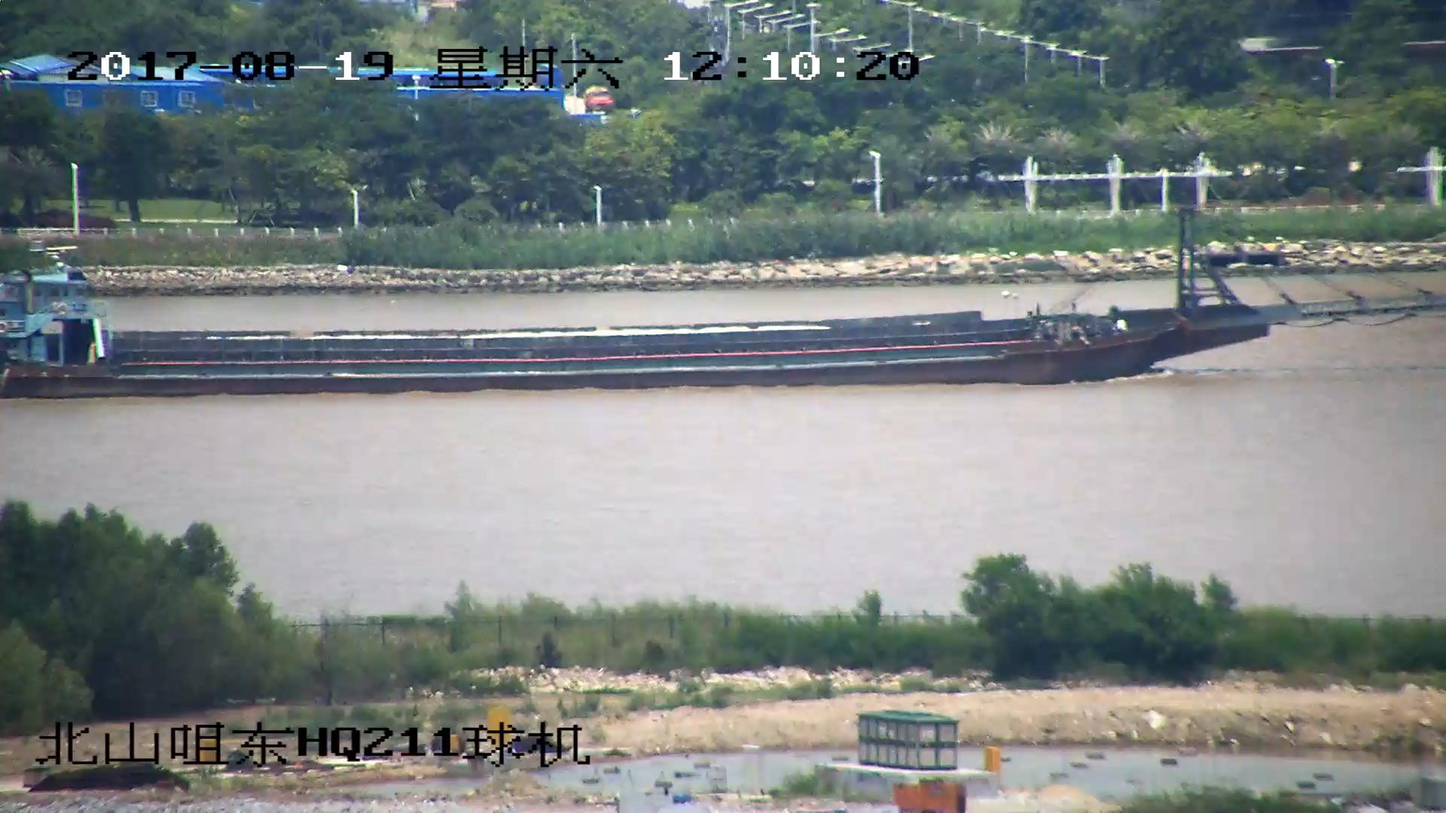bulk cargo carrier: (0, 199, 1445, 400)
